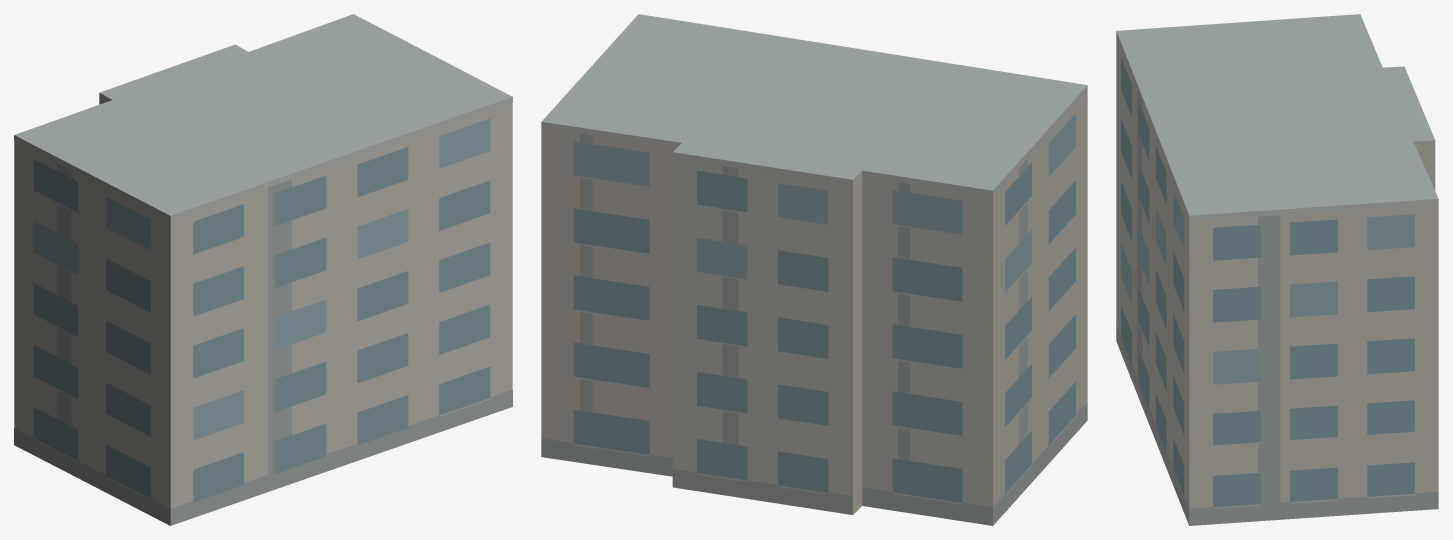
The model's file is survey-upis-32882721.glb.
3 renders of one model, left to right at view 1: azimuth 30°, elevation 25°; view 2: azimuth 150°, elevation 25°; view 3: azimuth 270°, elevation 25°, orthographic. The views are drawn at different scales.
Visible parts, largest first — view 1: survey-upis-32882721.tmp; view 2: survey-upis-32882721.tmp; view 3: survey-upis-32882721.tmp.
Part boxes in pixels (x1,y1,x2,y2): survey-upis-32882721.tmp: (14, 14, 512, 525); survey-upis-32882721.tmp: (541, 14, 1087, 525); survey-upis-32882721.tmp: (1116, 14, 1438, 525).
Size of the model in its own units: 18.49 by 13.25 by 12.49.
